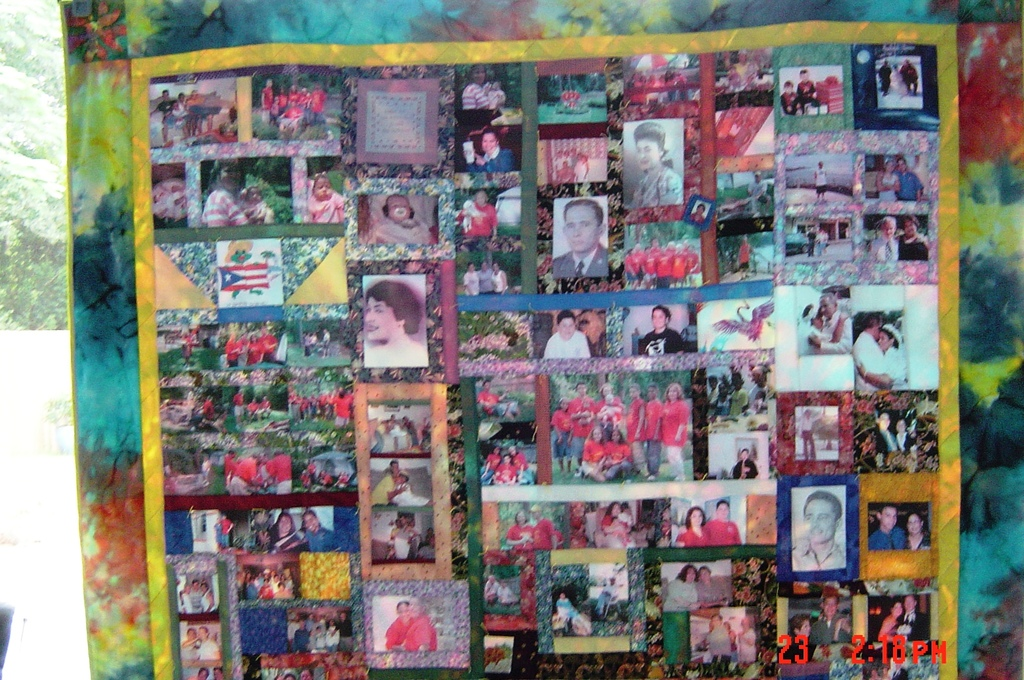Person: (144, 41, 937, 678)
